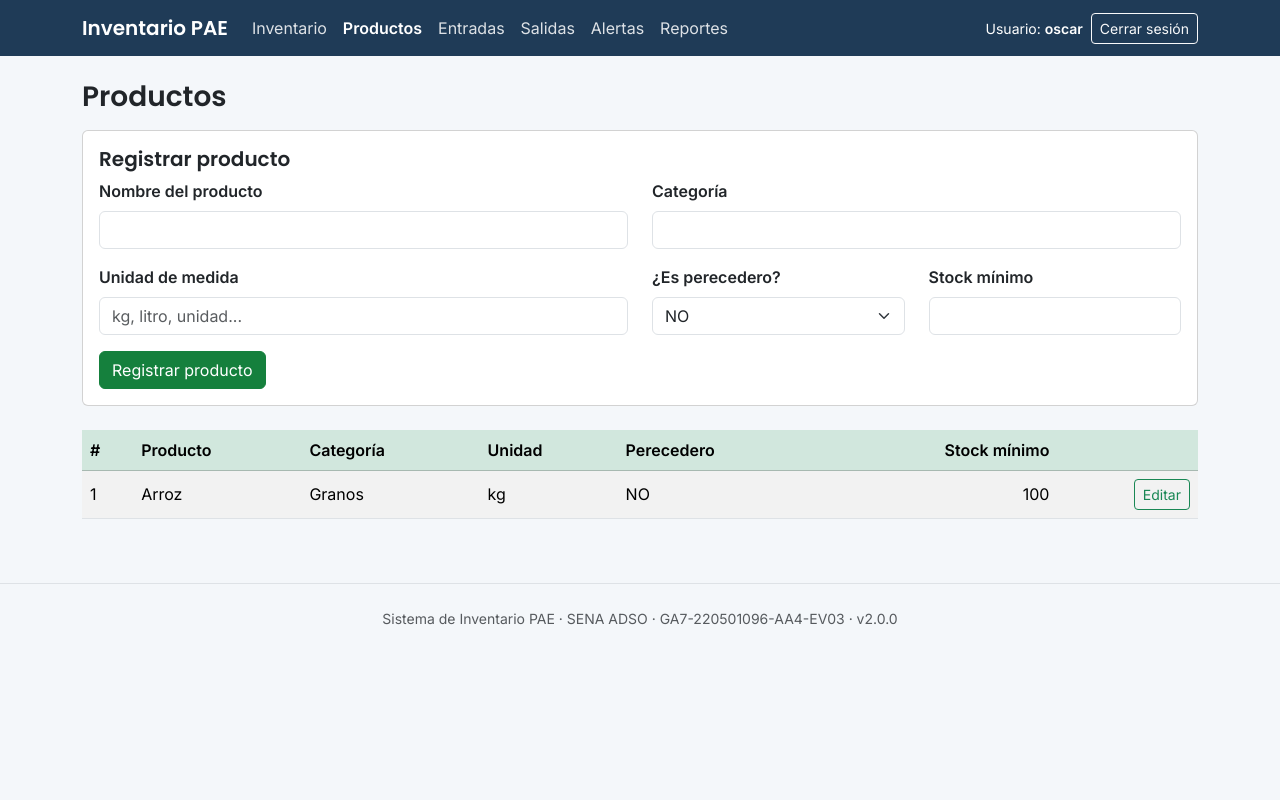
Sistema de Inventario PAE (front-end) › HU-02: valida campos obligatorios y registra un producto
Expected: the text "Arroz" is shown, [133,470,301,518]
Click the button "Registrar producto".
click(182, 370)  # box [99,351,266,389]
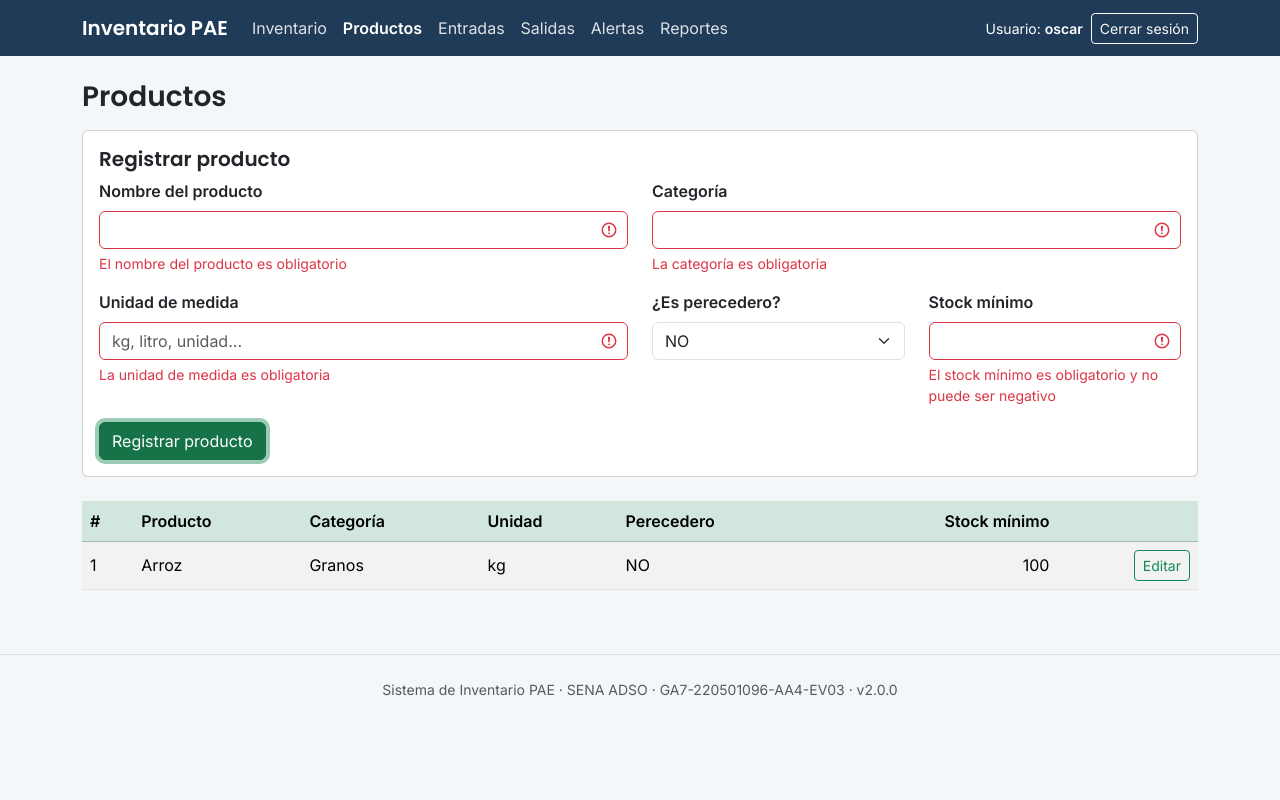
Result: the text "El nombre del producto es obligatorio" is shown at [99,255,347,272]
Result: the text "La categoría es obligatoria" is shown at [652,255,827,272]
Result: the text "El stock mínimo es obligatorio y no puede ser negativo" is shown at [928,364,1181,406]
Type "Lentejas" into the field labelled "Nombre del producto".
click(364, 230); type("Lentejas")  # box [99,211,628,249]
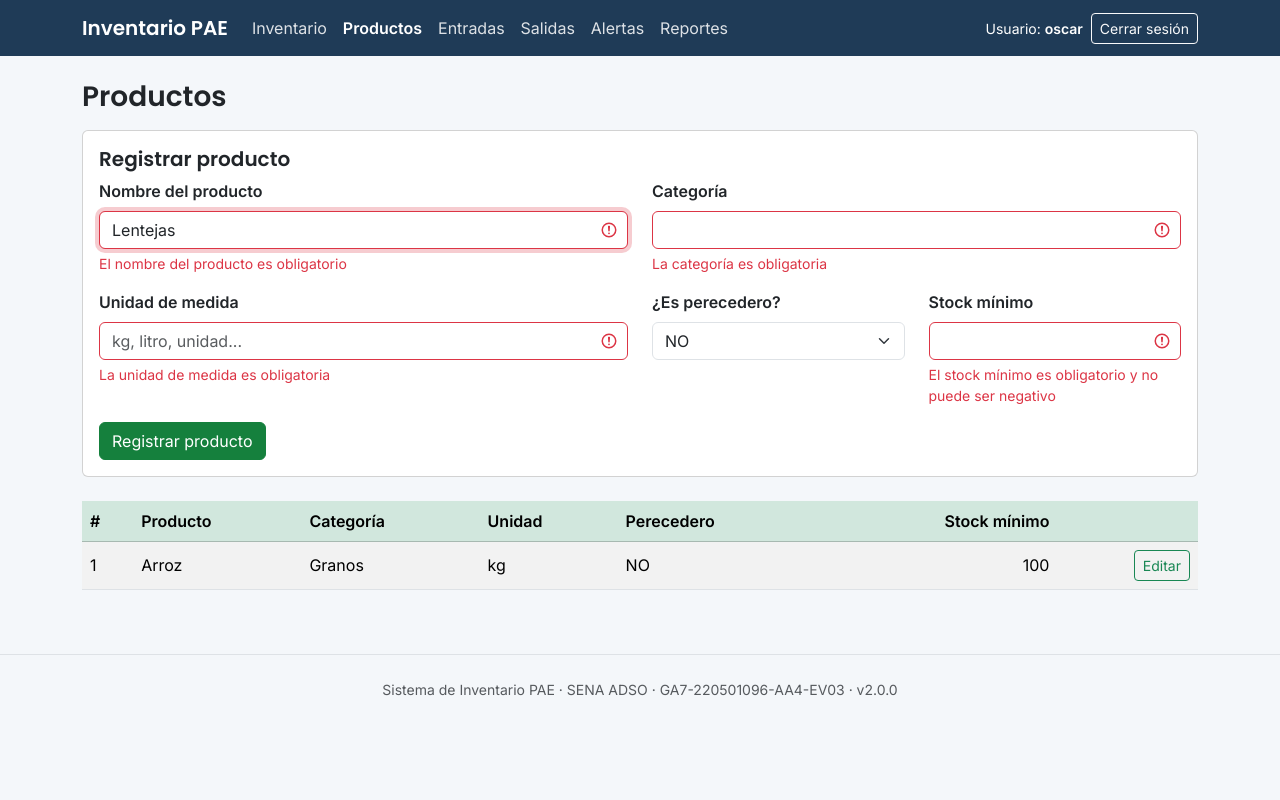
Type "Granos" into the field labelled "Categoría".
click(916, 230); type("Granos")  # box [652,211,1181,249]
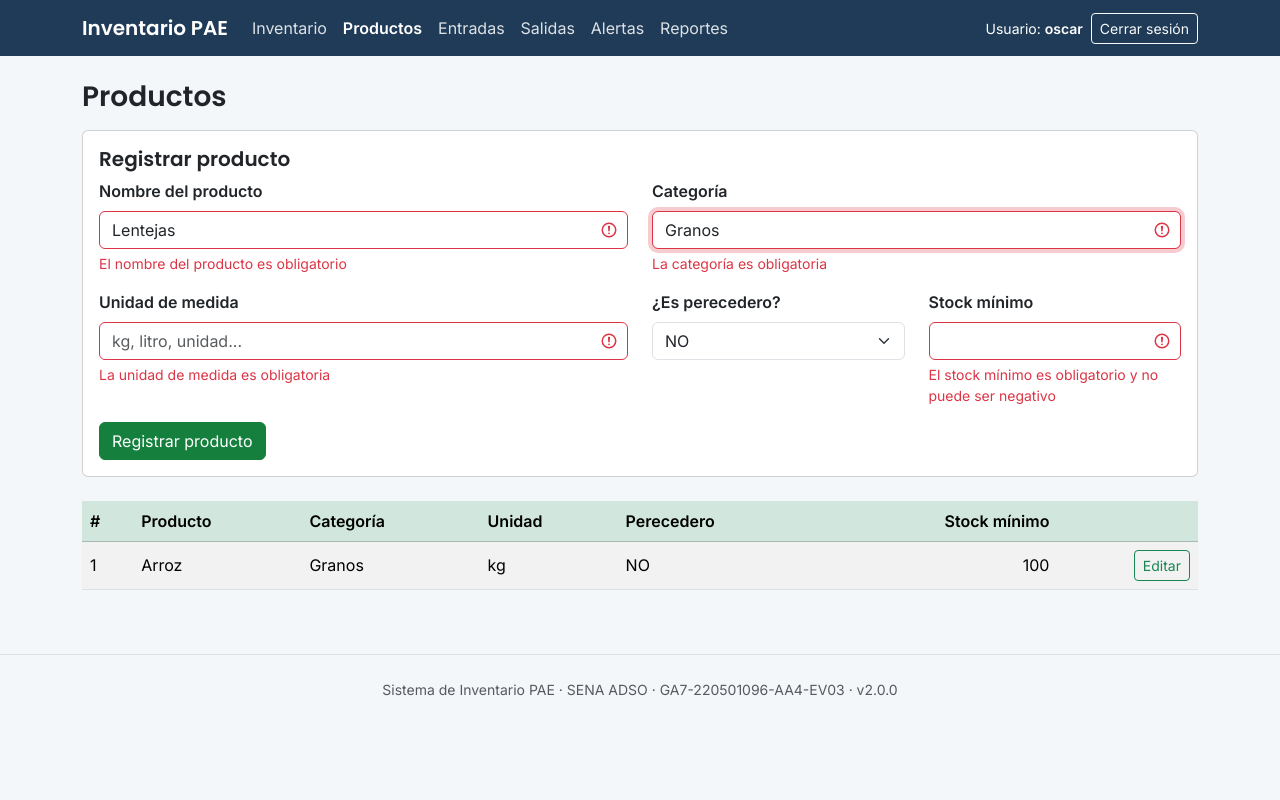
Type "kg" into the field labelled "Unidad de medida".
click(364, 341); type("kg")  # box [99,322,628,360]
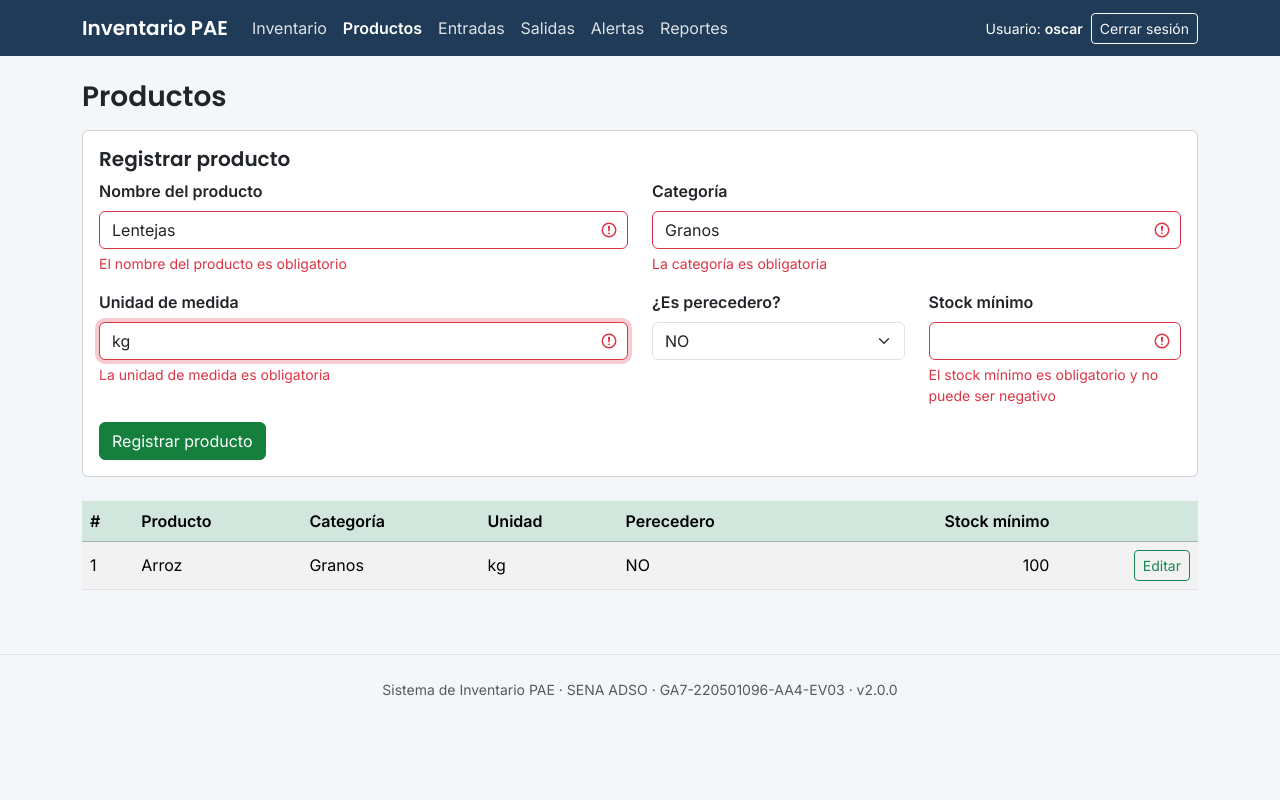
Type "20" into the number field labelled "Stock mínimo".
click(1055, 341); type("20")  # box [928,322,1181,360]
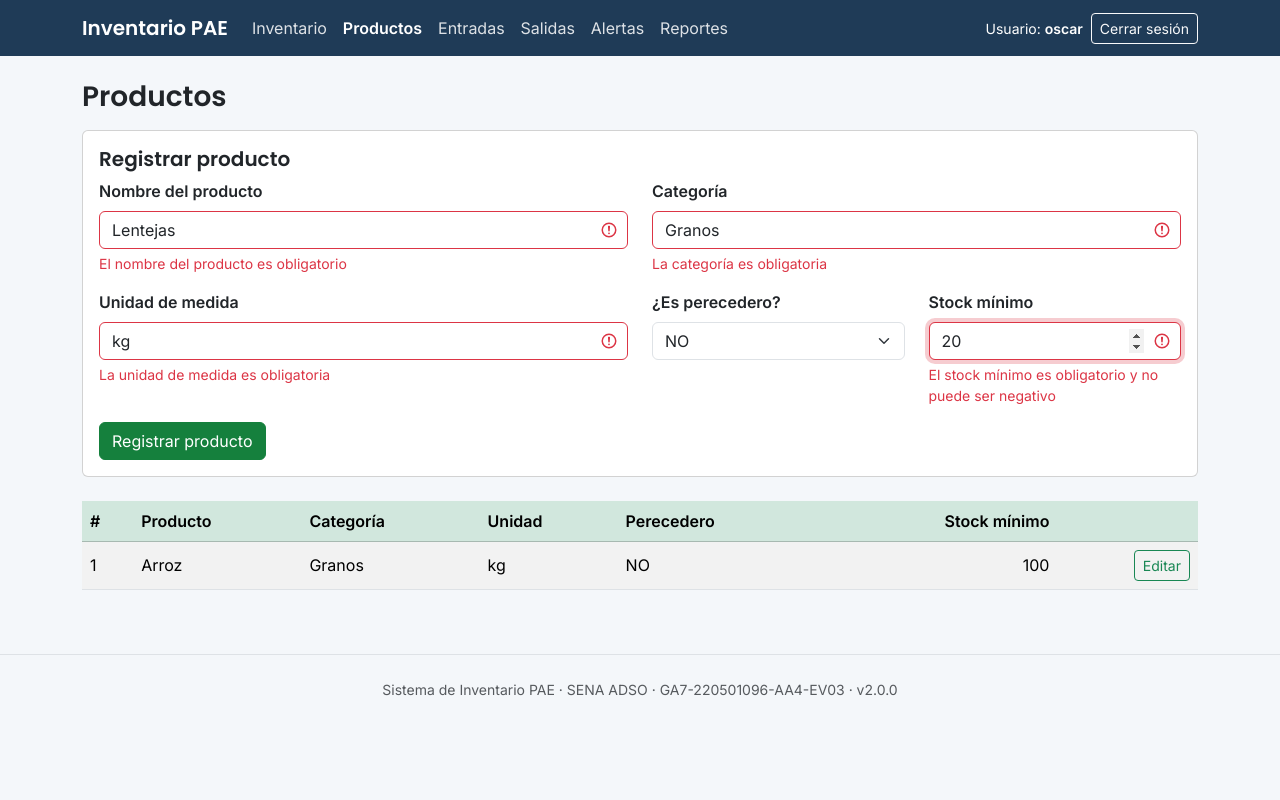
Click the button "Registrar producto".
click(182, 441)  # box [99,422,266,460]
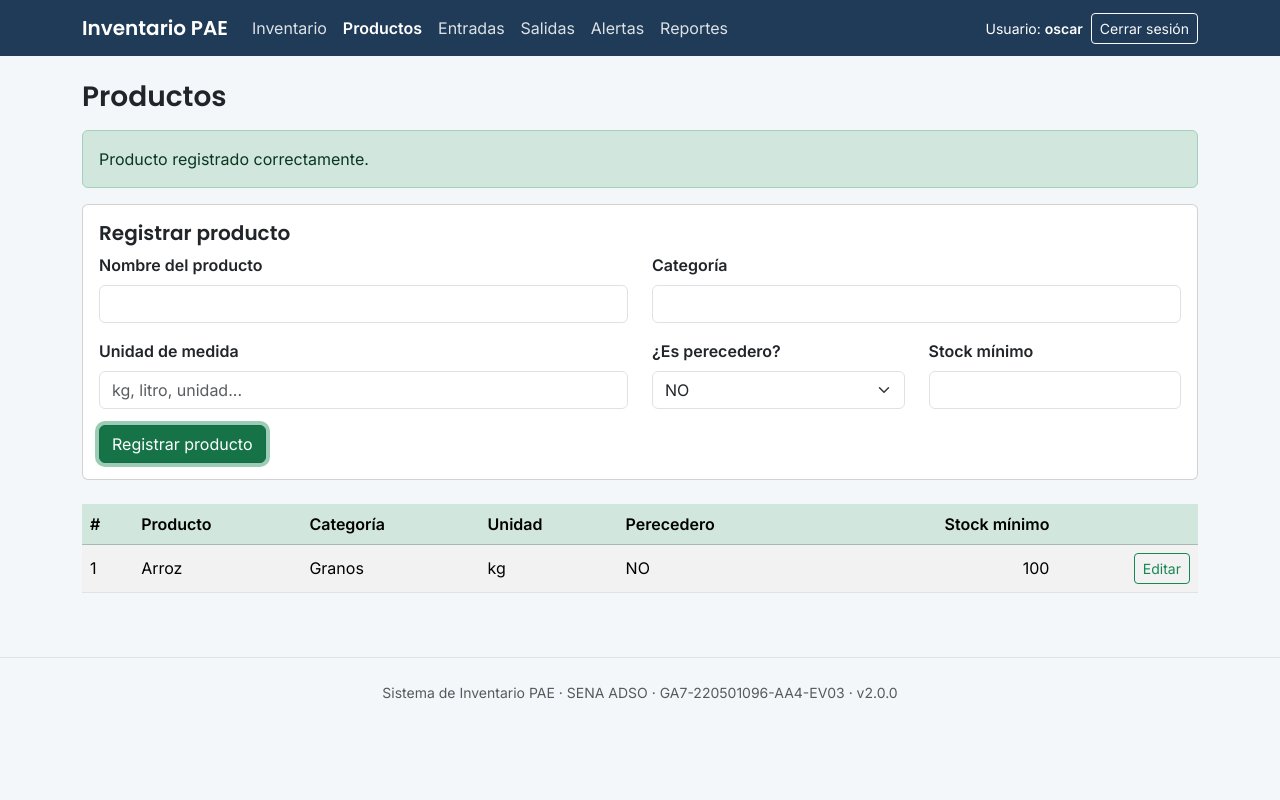
Result: the text "Producto registrado correctamente." is shown at [82,130,1198,188]
